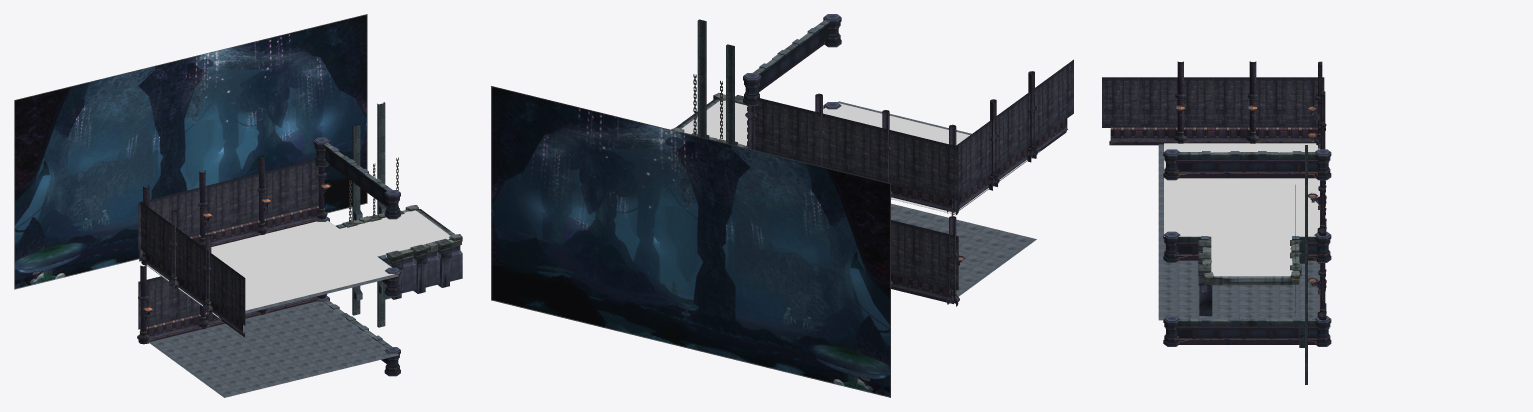
The model's file is SC102wangzhe.FBX.
3 views of the same model, side by side, from view 1: azimuth 30°, elevation 25°; view 2: azimuth 150°, elevation 25°; view 3: azimuth 270°, elevation 25° (orthographic). The views are drawn at different scales.
Parts seen in each view (by area): view 1: SC102jwangzhe_beijing, SC102jwangzhe_dizhuan02, SC102jwangzhe_qiangbi01, SC102wangzhe_lujing, SC102jwangzhe_qiangbi03, SC102jwangzhe_qiangbi02, SC102jwangzhe_futi, SC102wangzhe_lujing02, SC102jwangzhe_xianjie01, SC102jwangzhe_zhuangshi, SC102jwangzhe_xianjie03, SC102jwangzhe_dizhuan01 (+1 smaller); view 2: SC102jwangzhe_beijing, SC102jwangzhe_qiangbi01, SC102jwangzhe_qiangbi03, SC102jwangzhe_qiangbi02, SC102jwangzhe_dizhuan02, SC102jwangzhe_xianjie01, SC102jwangzhe_zhuangshi, SC102wangzhe_lujing, SC102wangzhe_lujing02; view 3: SC102jwangzhe_qiangbi03, SC102wangzhe_lujing, SC102jwangzhe_dizhuan02, SC102jwangzhe_xianjie01, SC102jwangzhe_xianjie03, SC102wangzhe_lujing02, SC102jwangzhe_futi, SC102jwangzhe_xianjie02, SC102jwangzhe_qiangbi01, SC102jwangzhe_zhuangshi, SC102jwangzhe_dizhuan01, SC102jwangzhe_qiangbi02.
Boxes of the visible parts, <box> form: SC102jwangzhe_beijing: <box>14,14,367,289</box>; SC102jwangzhe_dizhuan02: <box>149,301,399,397</box>; SC102jwangzhe_qiangbi01: <box>138,156,331,265</box>; SC102wangzhe_lujing: <box>147,220,398,317</box>; SC102jwangzhe_qiangbi03: <box>139,202,245,337</box>; SC102jwangzhe_qiangbi02: <box>137,265,327,344</box>; SC102jwangzhe_futi: <box>336,205,462,300</box>; SC102wangzhe_lujing02: <box>339,210,450,256</box>; SC102jwangzhe_xianjie01: <box>313,137,400,219</box>; SC102jwangzhe_zhuangshi: <box>352,102,386,327</box>; SC102jwangzhe_xianjie03: <box>317,295,400,376</box>; SC102jwangzhe_dizhuan01: <box>146,265,398,319</box>; SC102jwangzhe_beijing: <box>491,86,890,397</box>; SC102jwangzhe_qiangbi01: <box>745,93,959,215</box>; SC102jwangzhe_qiangbi03: <box>951,59,1073,215</box>; SC102jwangzhe_qiangbi02: <box>891,216,964,306</box>; SC102jwangzhe_dizhuan02: <box>891,203,1036,296</box>; SC102jwangzhe_xianjie01: <box>743,14,841,105</box>; SC102jwangzhe_zhuangshi: <box>697,19,737,145</box>; SC102wangzhe_lujing: <box>823,103,1038,214</box>; SC102wangzhe_lujing02: <box>681,100,747,145</box>; SC102jwangzhe_qiangbi03: <box>1102,61,1324,145</box>; SC102wangzhe_lujing: <box>1164,143,1319,236</box>; SC102jwangzhe_dizhuan02: <box>1158,236,1319,320</box>; SC102jwangzhe_xianjie01: <box>1163,149,1331,180</box>; SC102jwangzhe_xianjie03: <box>1163,315,1331,346</box>; SC102wangzhe_lujing02: <box>1211,236,1292,276</box>; SC102jwangzhe_futi: <box>1198,236,1301,315</box>; SC102jwangzhe_xianjie02: <box>1163,231,1331,262</box>; SC102jwangzhe_qiangbi01: <box>1306,61,1326,236</box>; SC102jwangzhe_zhuangshi: <box>1299,145,1307,384</box>; SC102jwangzhe_dizhuan01: <box>1158,144,1163,236</box>; SC102jwangzhe_qiangbi02: <box>1308,180,1326,320</box>.
Size of the model in its own units: 69.85 by 42.17 by 67.26.
